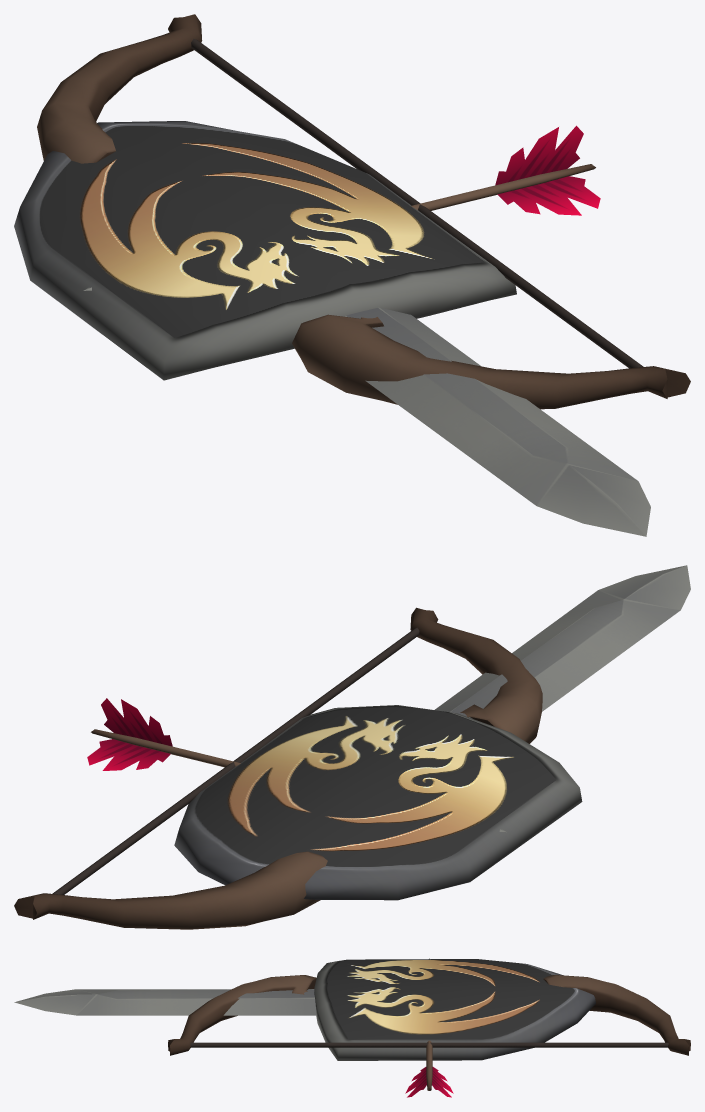
Rendered from Chibi-Weapons.fbx.
3 renders of one model, top to bottom at view 1: azimuth 30°, elevation 25°; view 2: azimuth 150°, elevation 25°; view 3: azimuth 270°, elevation 25°, orthographic. The views are drawn at different scales.
Visible parts, largest first — view 1: Weapon.Shield, Weapon.Bow, Weapon.Sword, Weapon.Arrow; view 2: Weapon.Shield, Weapon.Bow, Weapon.Sword, Weapon.Arrow; view 3: Weapon.Shield, Weapon.Bow, Weapon.Sword, Weapon.Arrow.
Part boxes in pixels (left/top/right/bottom): Weapon.Shield: left=14, top=121, right=516, bottom=380; Weapon.Bow: left=37, top=14, right=690, bottom=409; Weapon.Sword: left=344, top=307, right=650, bottom=536; Weapon.Arrow: left=83, top=125, right=600, bottom=290; Weapon.Shield: left=174, top=705, right=582, bottom=900; Weapon.Bow: left=14, top=607, right=542, bottom=929; Weapon.Sword: left=435, top=565, right=690, bottom=718; Weapon.Arrow: left=87, top=698, right=506, bottom=832; Weapon.Shield: left=314, top=959, right=595, bottom=1060; Weapon.Bow: left=168, top=975, right=690, bottom=1055; Weapon.Sword: left=14, top=989, right=316, bottom=1015; Weapon.Arrow: left=405, top=958, right=453, bottom=1097.
Size of the model in its own units: 0.6084 by 0.1241 by 1.3.
